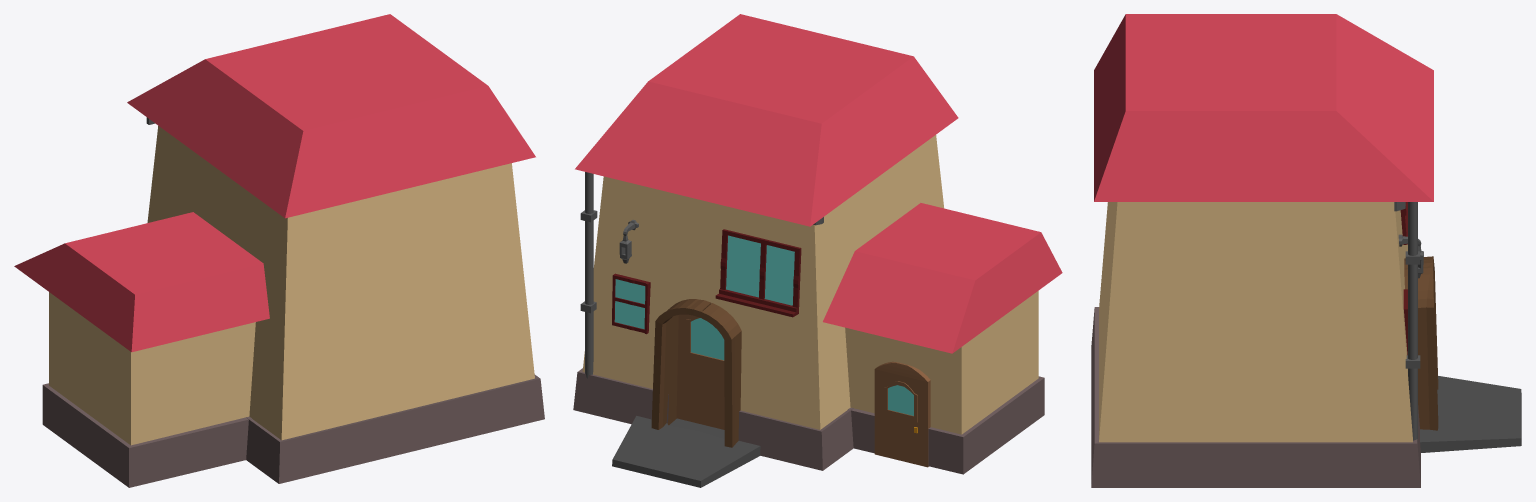
The model's file is HomeColor.fbx.
The picture shows the model from 3 angles, left to right: view 1: azimuth 30°, elevation 25°; view 2: azimuth 150°, elevation 25°; view 3: azimuth 270°, elevation 25°; orthographic projection. The views are drawn at different scales.
Visible parts, largest first — view 1: Cube.001, Куб, Куб.001, Куб.002; view 2: Cube.001, Куб, Куб.002, Куб.001, Сфера, Куб.005, Куб.008, Куб.006, Куб.007, Куб.004; view 3: Cube.001, Куб, Сфера, Куб.004.
Boxes of the visible parts, left/top/right/bottom form: Cube.001: left=147, top=126, right=544, bottom=483; Куб: left=127, top=14, right=535, bottom=218; Куб.001: left=42, top=292, right=255, bottom=487; Куб.002: left=14, top=212, right=269, bottom=352; Cube.001: left=573, top=135, right=943, bottom=487; Куб: left=575, top=14, right=958, bottom=226; Куб.002: left=823, top=203, right=1062, bottom=353; Куб.001: left=845, top=291, right=1044, bottom=474; Сфера: left=651, top=299, right=741, bottom=447; Куб.005: left=715, top=229, right=801, bottom=317; Куб.008: left=874, top=361, right=930, bottom=467; Куб.006: left=676, top=314, right=724, bottom=429; Куб.007: left=612, top=273, right=650, bottom=334; Куб.004: left=580, top=172, right=597, bottom=378; Cube.001: left=1091, top=202, right=1521, bottom=487; Куб: left=1094, top=14, right=1433, bottom=201; Сфера: left=1404, top=256, right=1438, bottom=430; Куб.004: left=1405, top=202, right=1420, bottom=441.
Bounding box in the file's own units: 1093 × 897 × 972.
